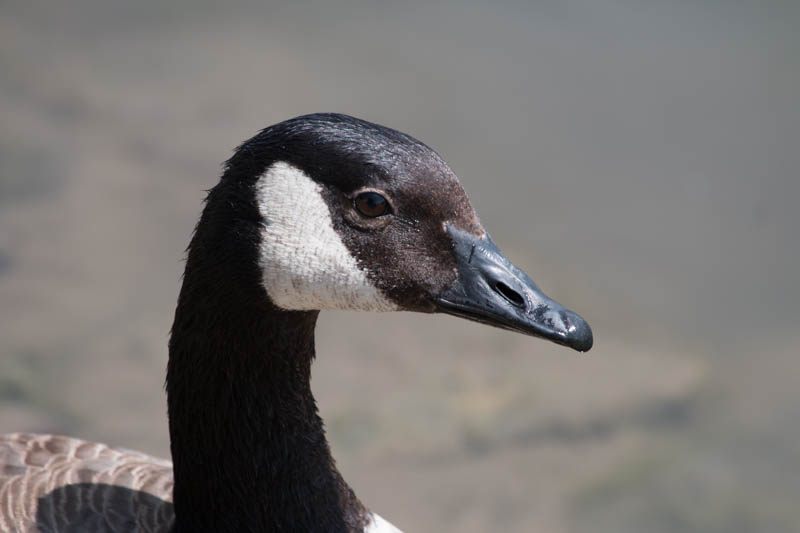goose-head: (187, 113, 594, 354)
